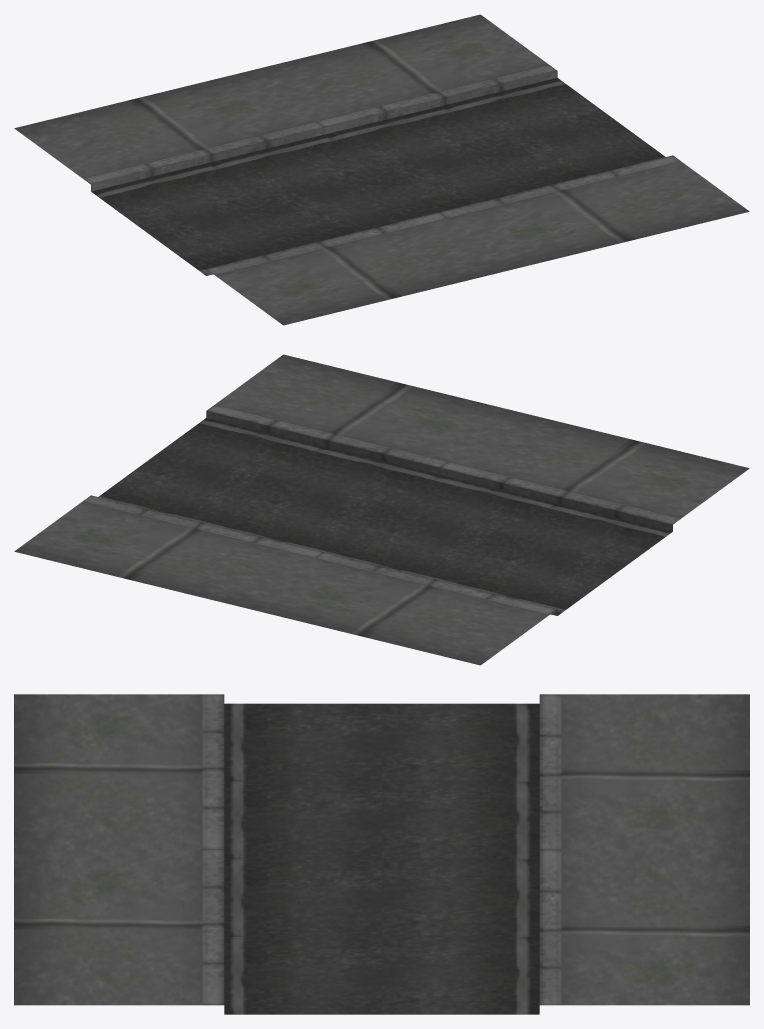
Rendered from road1a.fbx.
3 views of the same model, one above another, from view 1: azimuth 30°, elevation 25°; view 2: azimuth 150°, elevation 25°; view 3: azimuth 270°, elevation 25° (orthographic). The views are drawn at different scales.
Parts seen in each view (by area): view 1: road1a; view 2: road1a; view 3: road1a.
Part boxes in pixels (x1,y1,x2,y2): road1a: (14,14,749,325); road1a: (14,354,749,665); road1a: (14,694,749,1014).
Size of the model in its own units: 1400 by 1400 by 20.
Materials: 1 (1 with a texture image).
